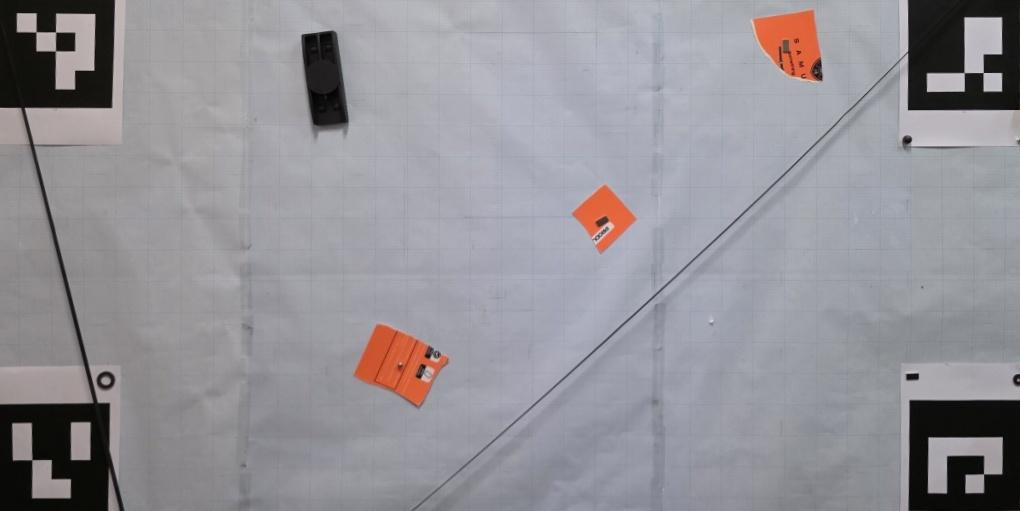obstacle: (351, 322, 449, 409), (749, 7, 826, 83), (300, 30, 350, 127), (570, 182, 636, 255)
